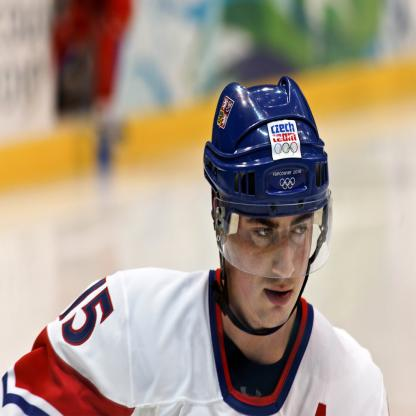Helmet: (204, 72, 336, 333)
